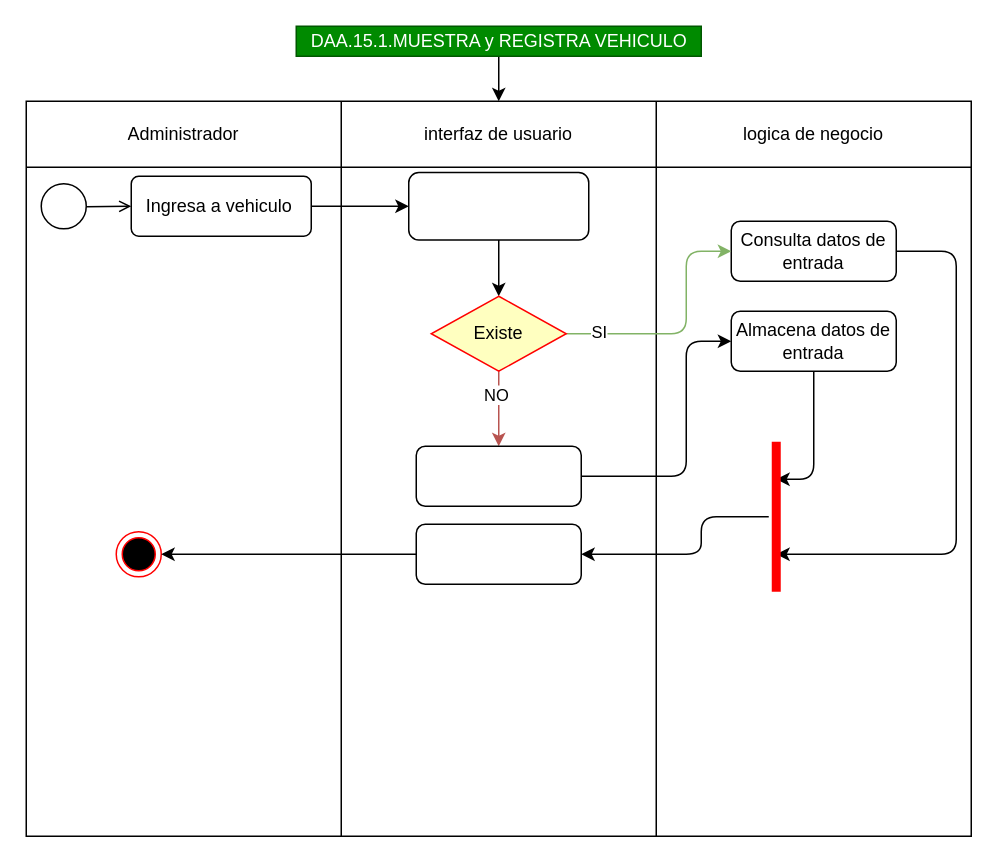
The diagram is 998 pixels wide and 863 high, and some of its shapes have lost their labels. The shapes that lost their labels are listed below. From the top down, each one's centre as x and y in pixels, then its label:
(x=498, y=205): Ingresa datos de entrada
(x=498, y=475): Crea datos de entrada
(x=498, y=553): Muestra datos de entrada
